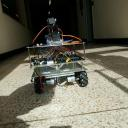cart: (26, 42, 88, 93)
